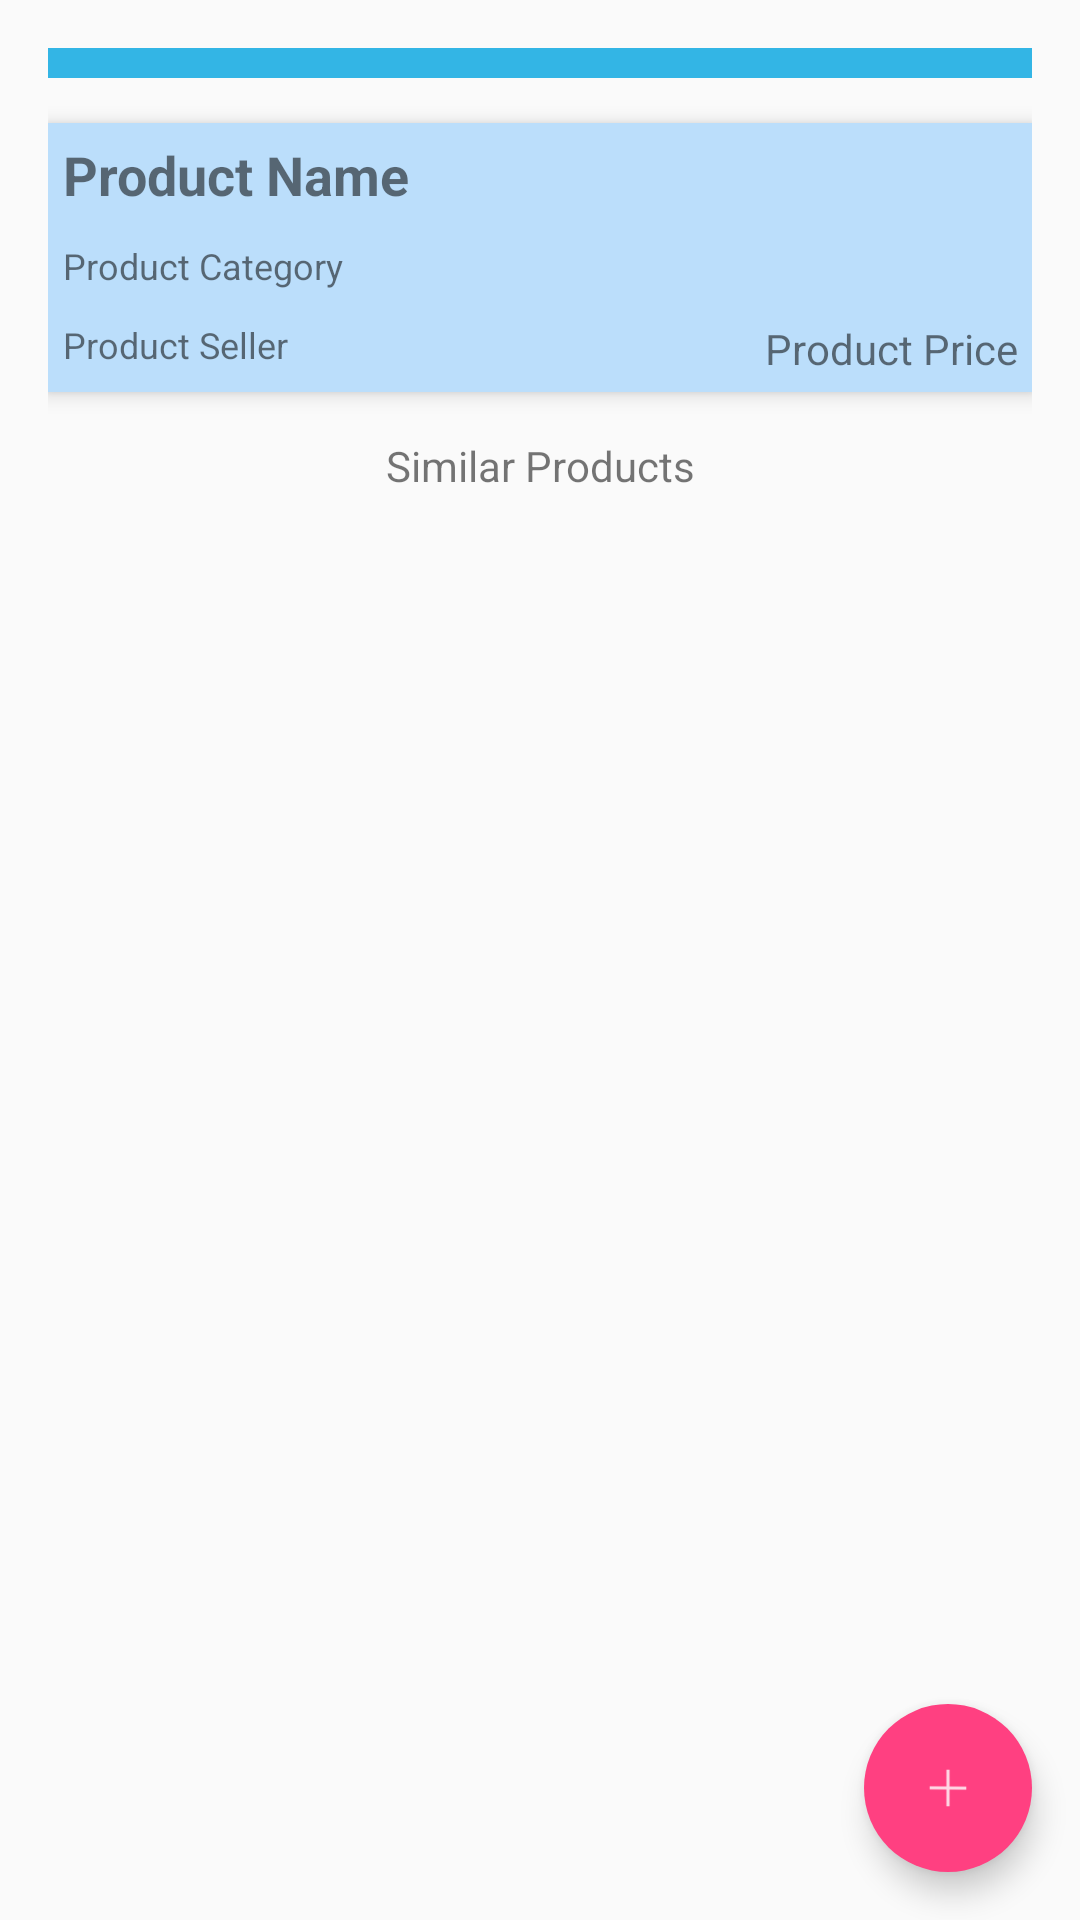

Where to tap for icons on this 1080 × 1920 app screen, as (x=x, y=y):
fab add: (x=948, y=1788)
